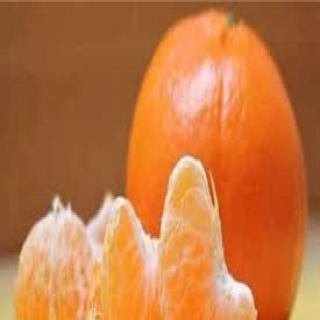orange: (130, 5, 312, 320), (150, 150, 255, 320)
